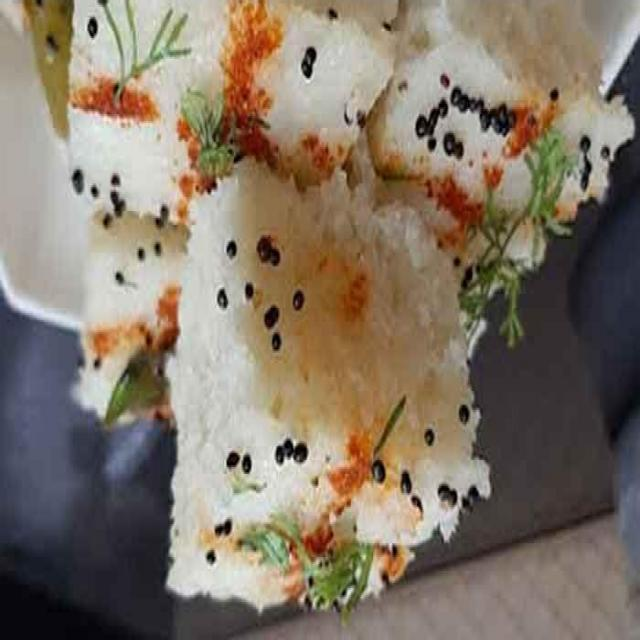dhokla: (51, 14, 576, 328), (156, 171, 478, 640)
